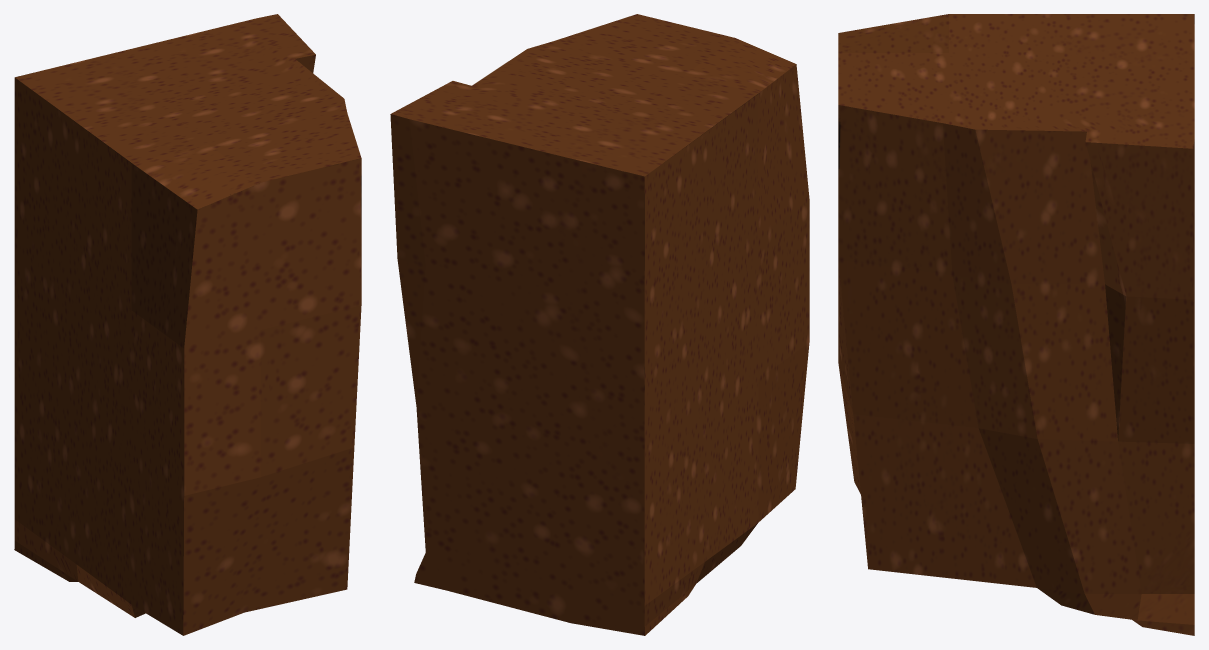
The model's file is HarvatiFIX.gltf.
3 renders of one model, left to right at view 1: azimuth 30°, elevation 25°; view 2: azimuth 150°, elevation 25°; view 3: azimuth 270°, elevation 25°, orthographic. The views are drawn at different scales.
Parts seen in each view (by area): view 1: Cube.003; view 2: Cube.003; view 3: Cube.003.
Part boxes in pixels (box(x1,y1,x2,y2)): Cube.003: box(14, 14, 361, 635); Cube.003: box(390, 14, 809, 635); Cube.003: box(838, 14, 1194, 635).
Bounding box in the file's own units: 0.4411 × 0.7673 × 0.493.
1 material, 1 textured.
